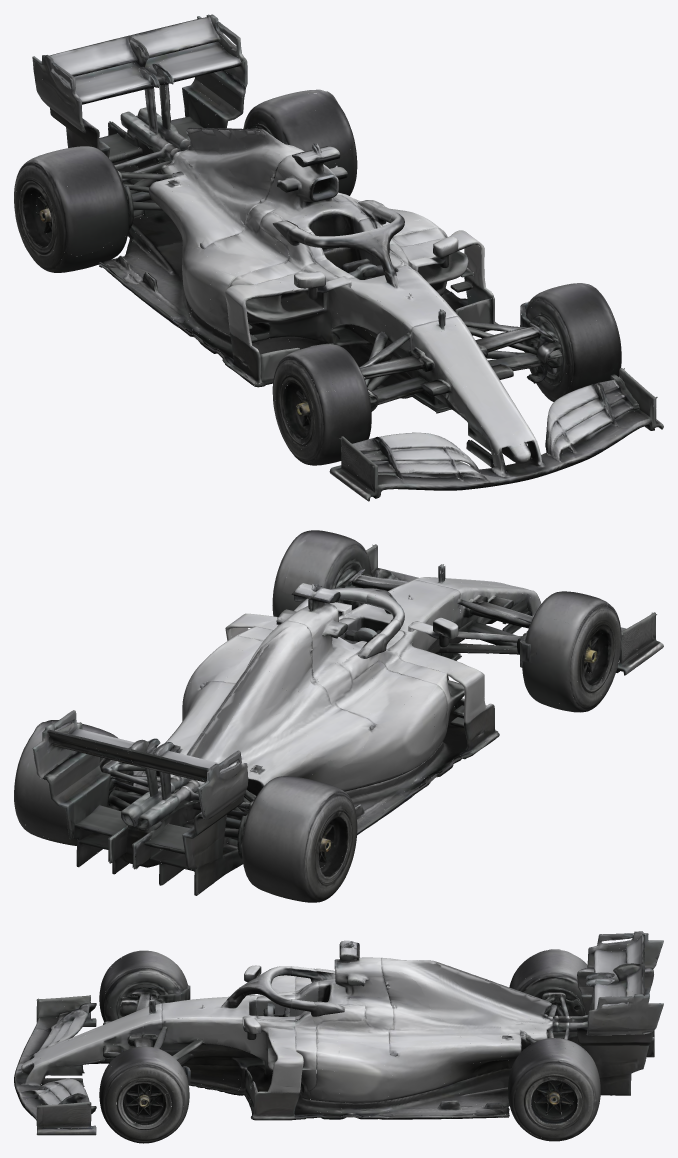
File: formula1-driving.glb
3 views of the same model, one above another, from view 1: azimuth 30°, elevation 25°; view 2: azimuth 150°, elevation 25°; view 3: azimuth 270°, elevation 25° (orthographic). The views are drawn at different scales.
Visible parts, largest first — view 1: tripo_node_288a0e87-8ce8-4275-8c11-d8aeb59c4d1b; view 2: tripo_node_288a0e87-8ce8-4275-8c11-d8aeb59c4d1b; view 3: tripo_node_288a0e87-8ce8-4275-8c11-d8aeb59c4d1b.
Boxes of the visible parts, x1,y1,x2,y2 form: tripo_node_288a0e87-8ce8-4275-8c11-d8aeb59c4d1b: [14, 14, 663, 501]; tripo_node_288a0e87-8ce8-4275-8c11-d8aeb59c4d1b: [14, 530, 663, 902]; tripo_node_288a0e87-8ce8-4275-8c11-d8aeb59c4d1b: [14, 931, 663, 1143].
Bounding box in the file's own units: 0.4122 × 0.2455 × 0.9796.
1 material, 1 textured.
